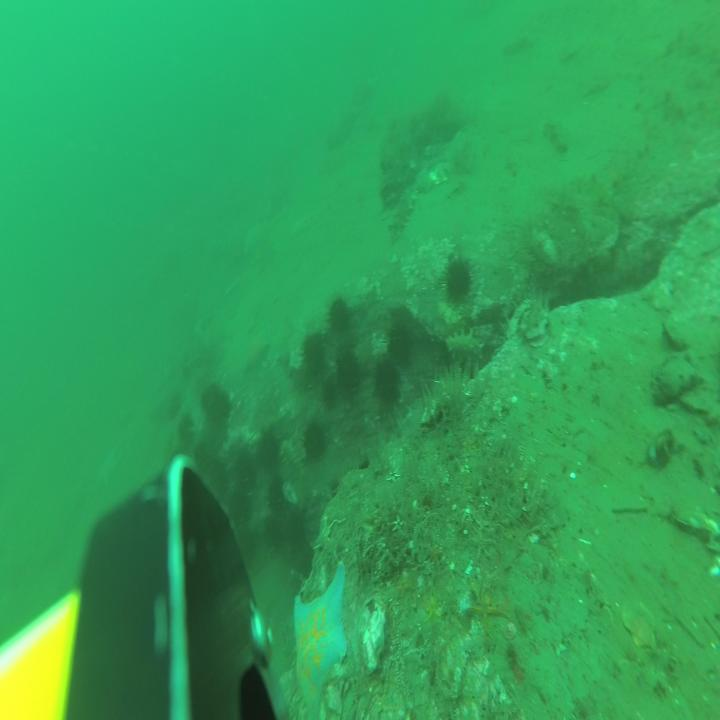echinus: (442, 257, 473, 306), (373, 357, 400, 407), (301, 332, 327, 382), (328, 292, 352, 340), (202, 381, 228, 425), (338, 341, 360, 392), (385, 324, 411, 367), (302, 420, 327, 463), (230, 446, 254, 488), (258, 426, 280, 471), (229, 486, 252, 523), (356, 458, 377, 494), (321, 368, 339, 407), (176, 414, 196, 449), (293, 537, 313, 571), (263, 517, 283, 551), (284, 510, 305, 540), (211, 457, 227, 494), (268, 476, 284, 512), (195, 440, 210, 474)
holothurian: (389, 182, 418, 246), (446, 329, 484, 370), (282, 439, 304, 482), (544, 120, 568, 158), (503, 33, 532, 58), (506, 150, 519, 179)
scallop: (624, 598, 656, 650), (560, 36, 582, 60), (428, 162, 450, 186)
starfish: (294, 557, 344, 720), (469, 578, 508, 639), (246, 338, 268, 375), (424, 593, 444, 622), (397, 573, 410, 600)
